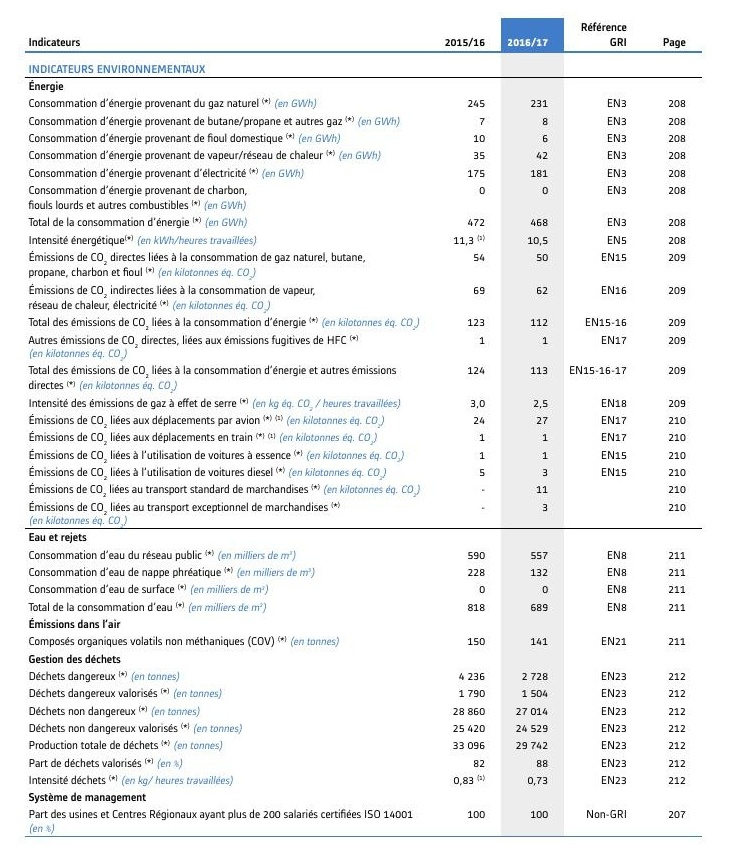table: (0, 0, 731, 853)
